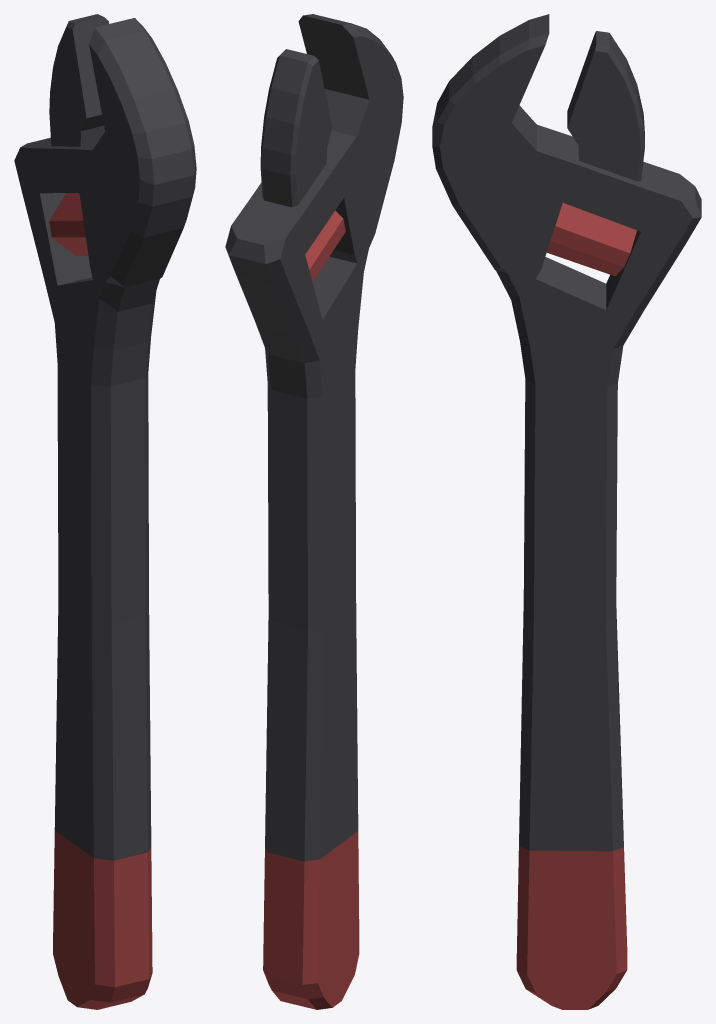
File: Wrench.fbx
3 views of the same model, side by side, from view 1: azimuth 30°, elevation 25°; view 2: azimuth 150°, elevation 25°; view 3: azimuth 270°, elevation 25° (orthographic).
Visible parts, largest first — view 1: Cube; view 2: Cube; view 3: Cube.
Part boxes in pixels (bbox=[...]): Cube: bbox=[14, 14, 196, 1009]; Cube: bbox=[225, 14, 403, 1009]; Cube: bbox=[432, 14, 701, 1009].
Size of the model in its own units: 0.2919 by 4.98 by 1.25.
